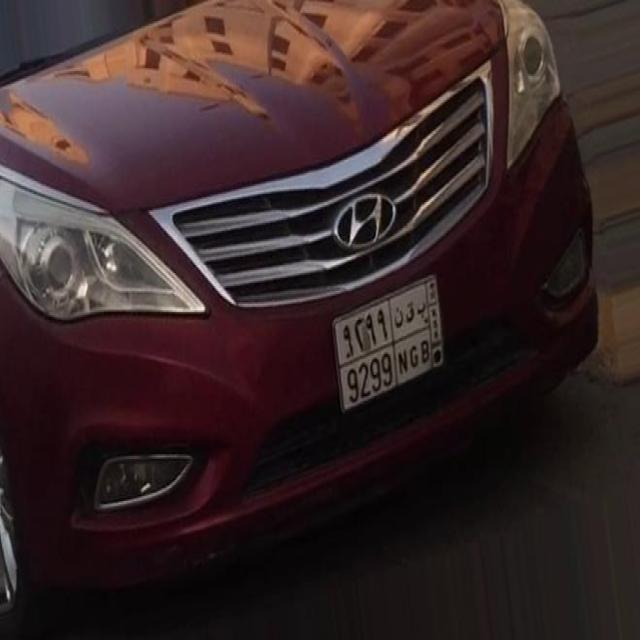Car-plate: (325, 252, 457, 417)
